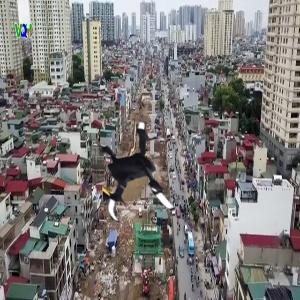drone: (78, 112, 194, 228)
